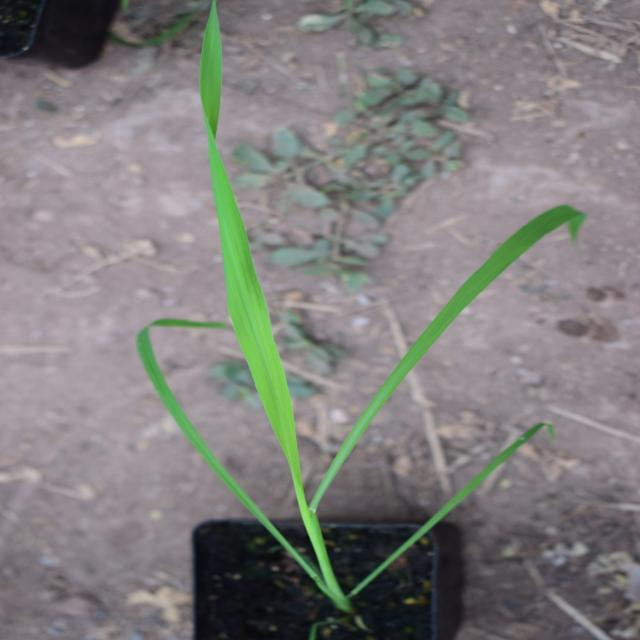barnyard_grass: (33, 98, 592, 536)
